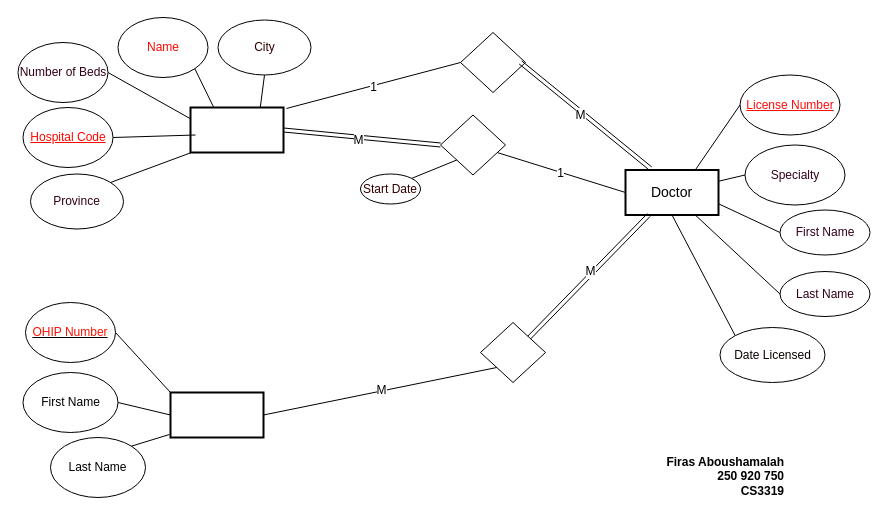
Some shapes in this 887 by 516 pixel diagram are drawn without their labels. Here are the shapes that lost their labels. From the top down, the centre of each, then its label:
(x=493, y=62): Works For
(x=236, y=129): Hospital
(x=473, y=144): Is Head Of
(x=513, y=352): assigned to
(x=216, y=414): Patient
